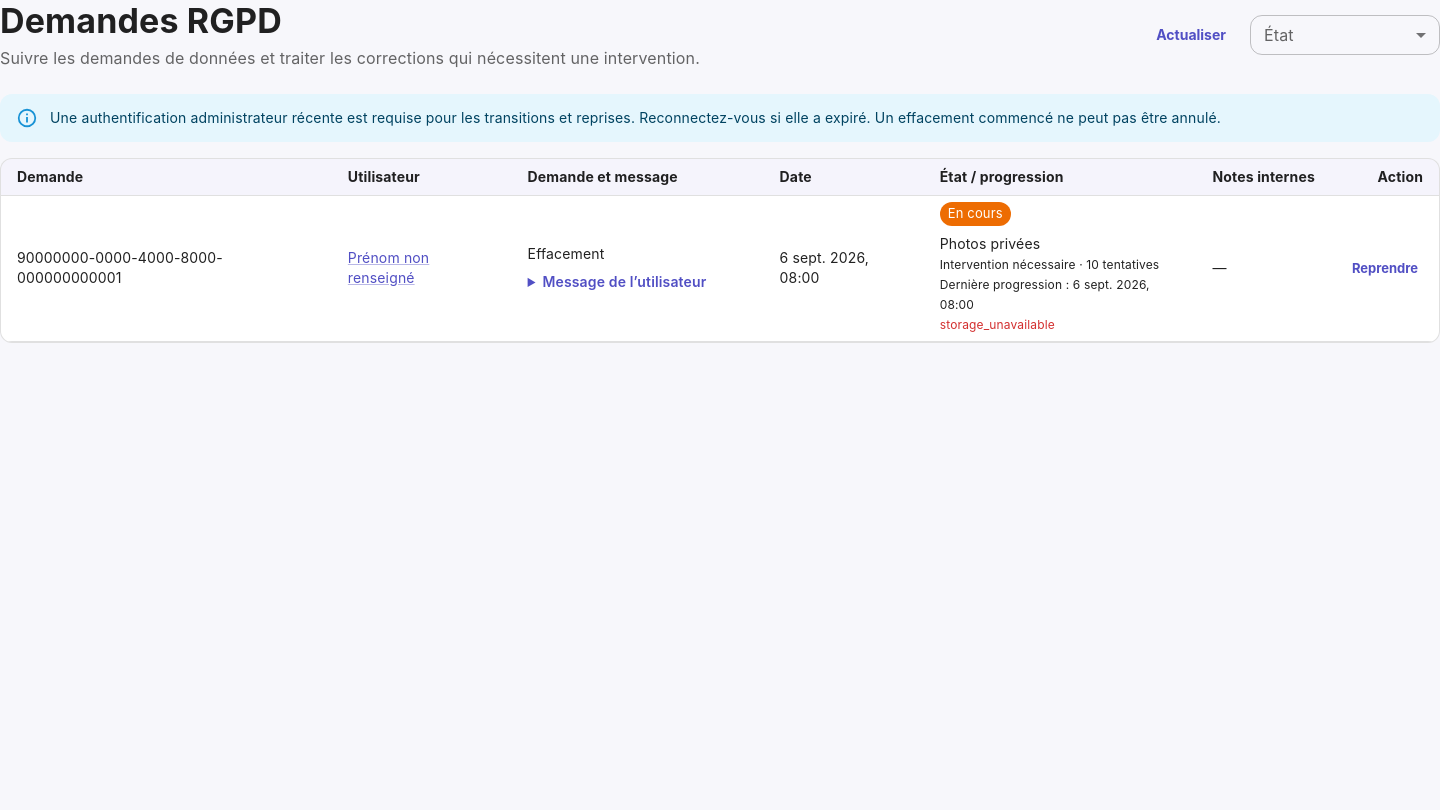
Test: critical dashboard actions › retries an erasure without presenting it as account reactivation
Step 1. Click the button "Reprendre" → [1385, 268], box 1347,253 -> 1423,284
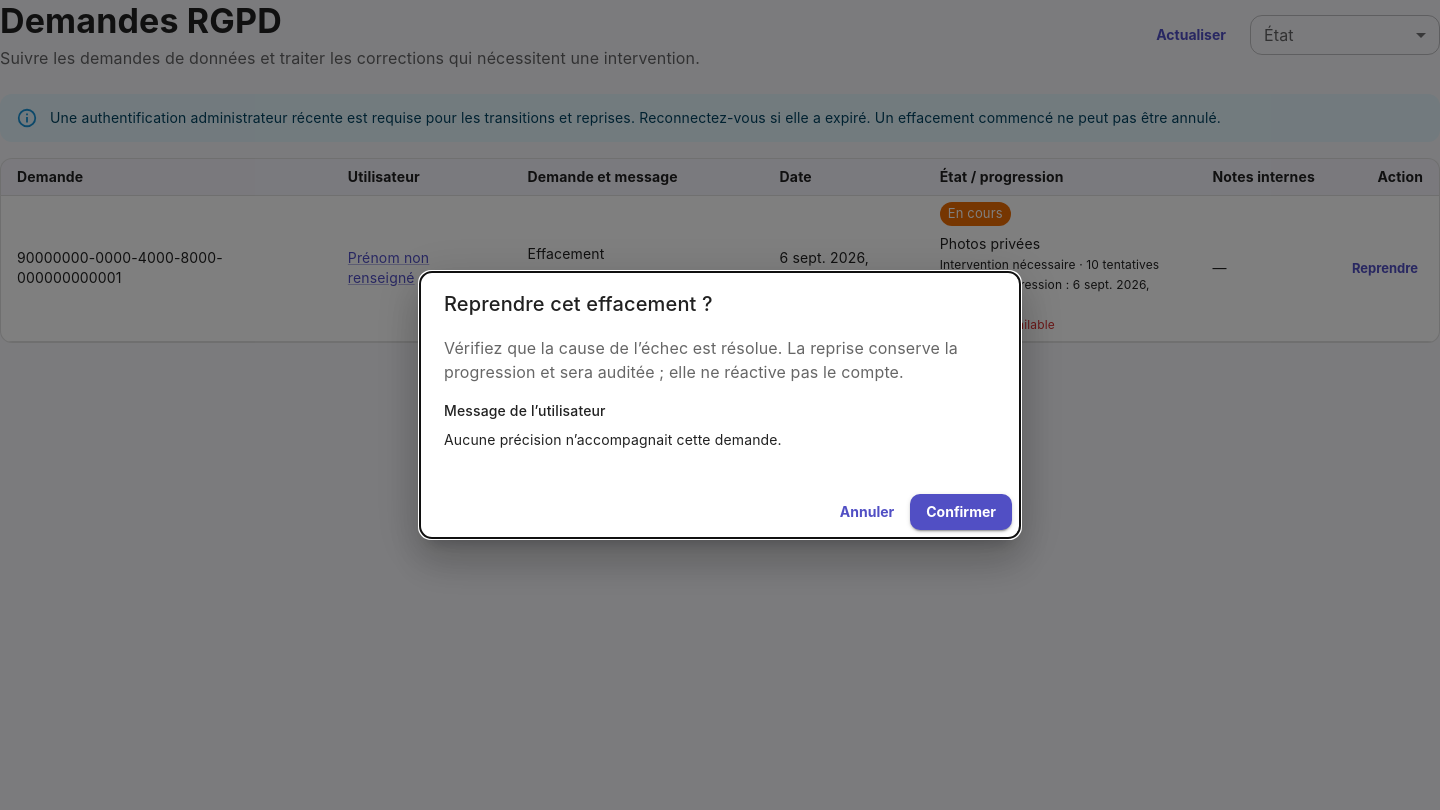
Result: the text "elle ne réactive pas le compte" is shown at 444,338 -> 958,382
Step 2. Click the button "Confirmer" → [961, 512], box 910,494 -> 1012,530
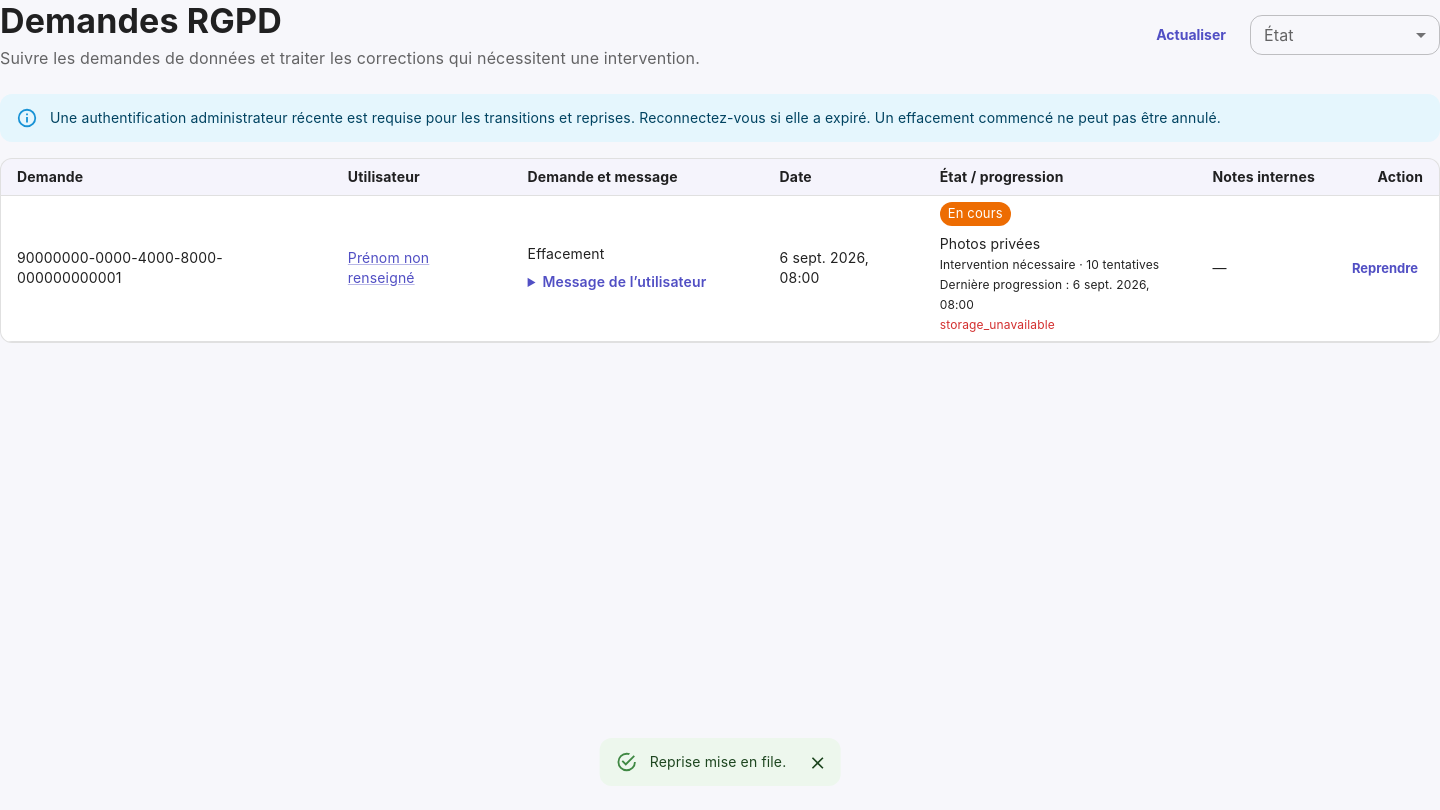
Result: the text "Reprise mise en file." is shown at 650,753 -> 786,770
Result: the dialog is gone
